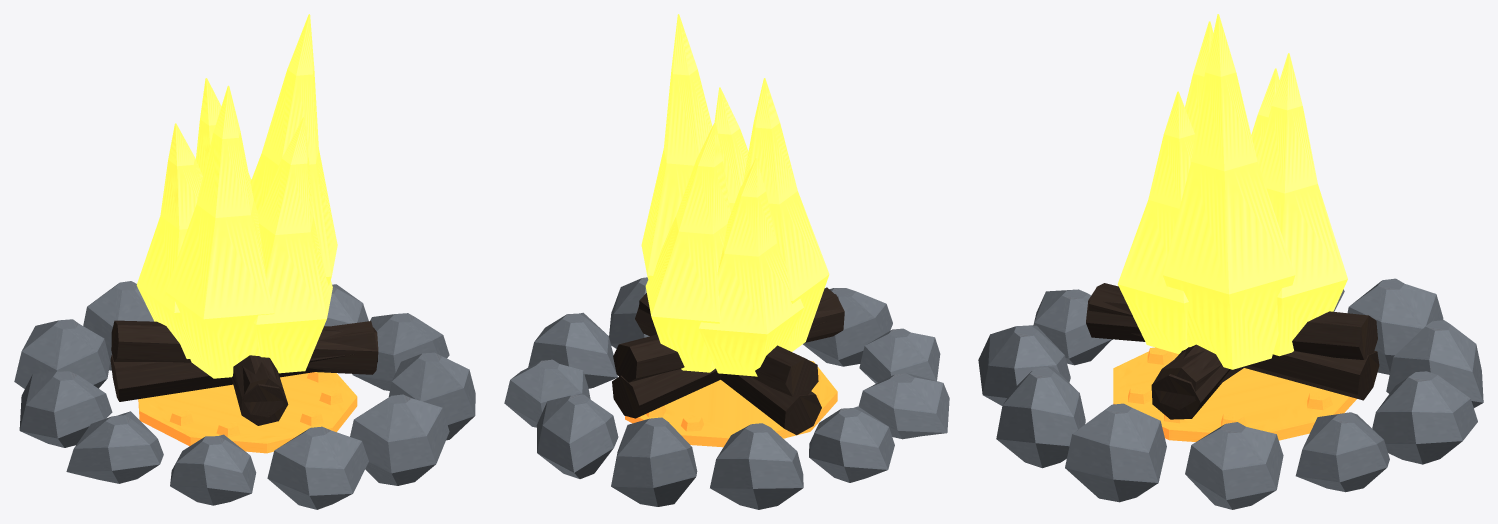
The model's file is showcase_campfire.glb.
3 renders of one model, left to right at view 1: azimuth 30°, elevation 25°; view 2: azimuth 150°, elevation 25°; view 3: azimuth 270°, elevation 25°, orthographic. The views are drawn at different scales.
Parts seen in each view (by area): view 1: campfire_root, flame_node_2, flame_node_1, flame_node_0, flame_node_3, flame_node_4; view 2: campfire_root, flame_node_3, flame_node_4, flame_node_2, flame_node_0, flame_node_1; view 3: campfire_root, flame_node_0, flame_node_4, flame_node_1, flame_node_2, flame_node_3.
Boxes of the visible parts, left/top/right/bottom form: campfire_root: left=14, top=281, right=475, bottom=509; flame_node_2: left=165, top=85, right=274, bottom=378; flame_node_1: left=253, top=117, right=332, bottom=373; flame_node_0: left=250, top=14, right=337, bottom=285; flame_node_3: left=136, top=123, right=202, bottom=358; flame_node_4: left=196, top=78, right=251, bottom=182; campfire_root: left=504, top=277, right=949, bottom=509; flame_node_3: left=698, top=157, right=803, bottom=376; flame_node_4: left=645, top=122, right=730, bottom=372; flame_node_2: left=743, top=78, right=829, bottom=351; flame_node_0: left=641, top=14, right=730, bottom=283; flame_node_1: left=714, top=87, right=748, bottom=213; campfire_root: left=978, top=278, right=1483, bottom=509; flame_node_0: left=1163, top=14, right=1295, bottom=369; flame_node_4: left=1257, top=53, right=1347, bottom=356; flame_node_1: left=1117, top=91, right=1195, bottom=353; flame_node_2: left=1185, top=21, right=1213, bottom=134; flame_node_3: left=1251, top=68, right=1279, bottom=160.
Size of the model in its own units: 1.3 by 1.25 by 1.3.
Materials: 4 (4 with a texture image).
